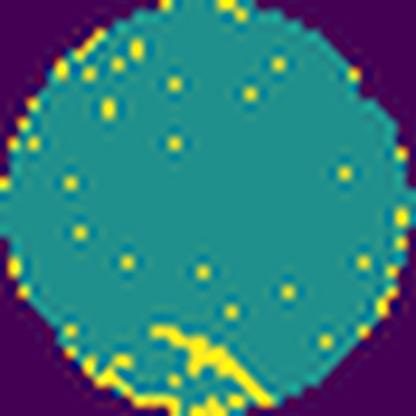Loc: (154, 328, 274, 401)
